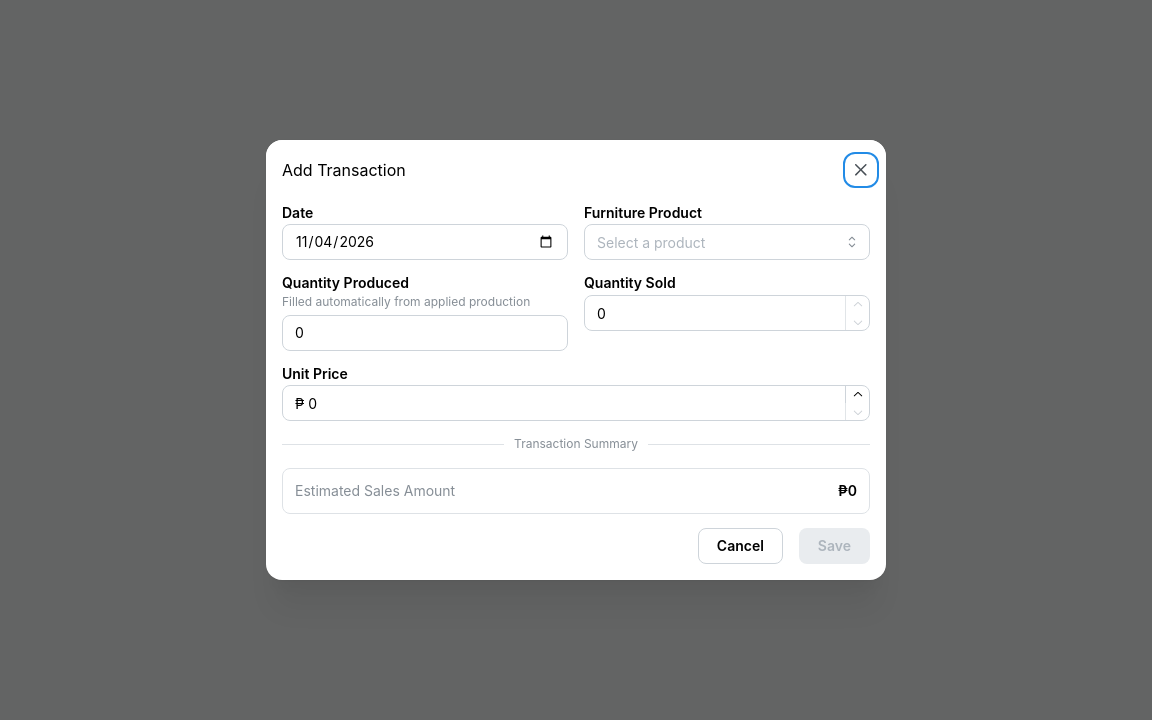
AddTransactionModal › shows Quantity Produced as read-only and filled from the latest applied batch, not cumulative stock
Click the dropdown labelled "Furniture Product". click: [727, 242]
box: [584, 224, 870, 260]
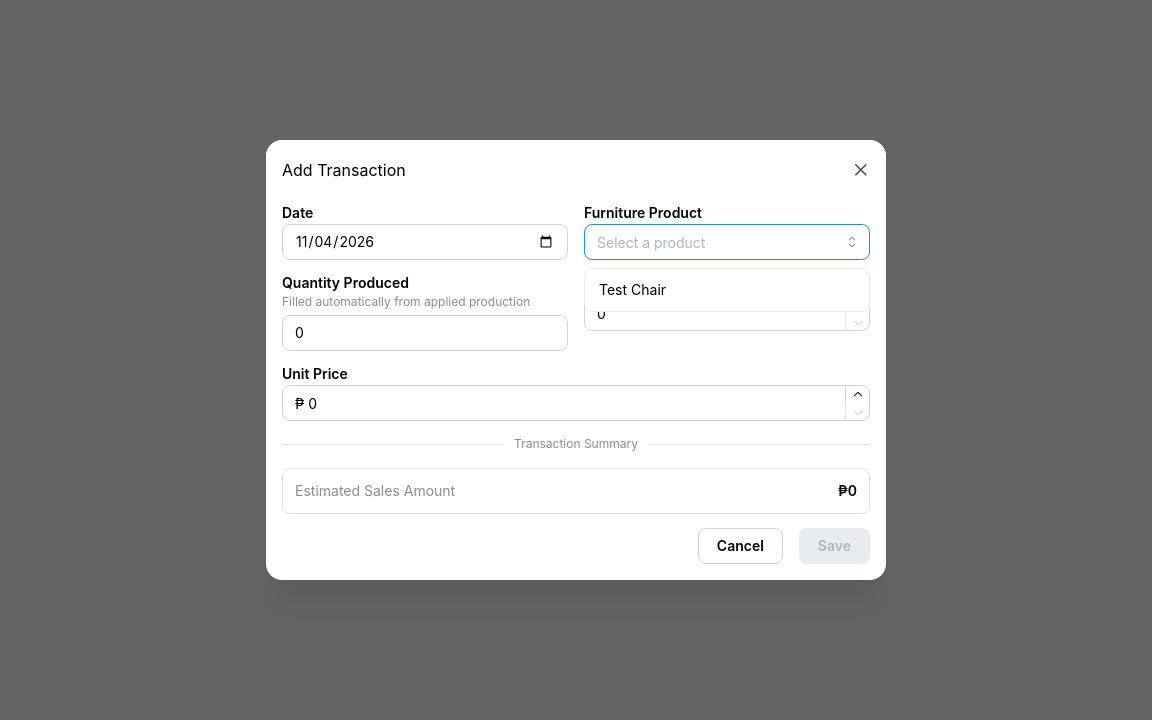
Click the option "Test Chair". click: [632, 290]
box: [599, 282, 666, 298]
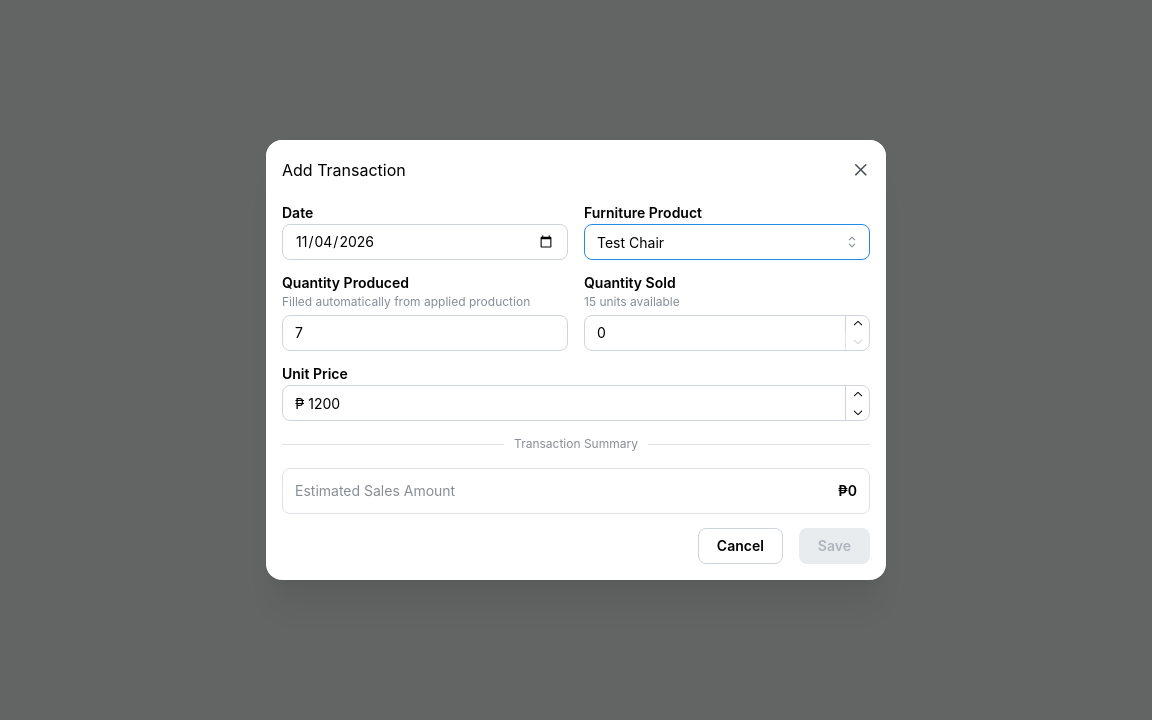
Expected: the field labelled "Quantity Produced" holds "7", [282, 315, 568, 351]
